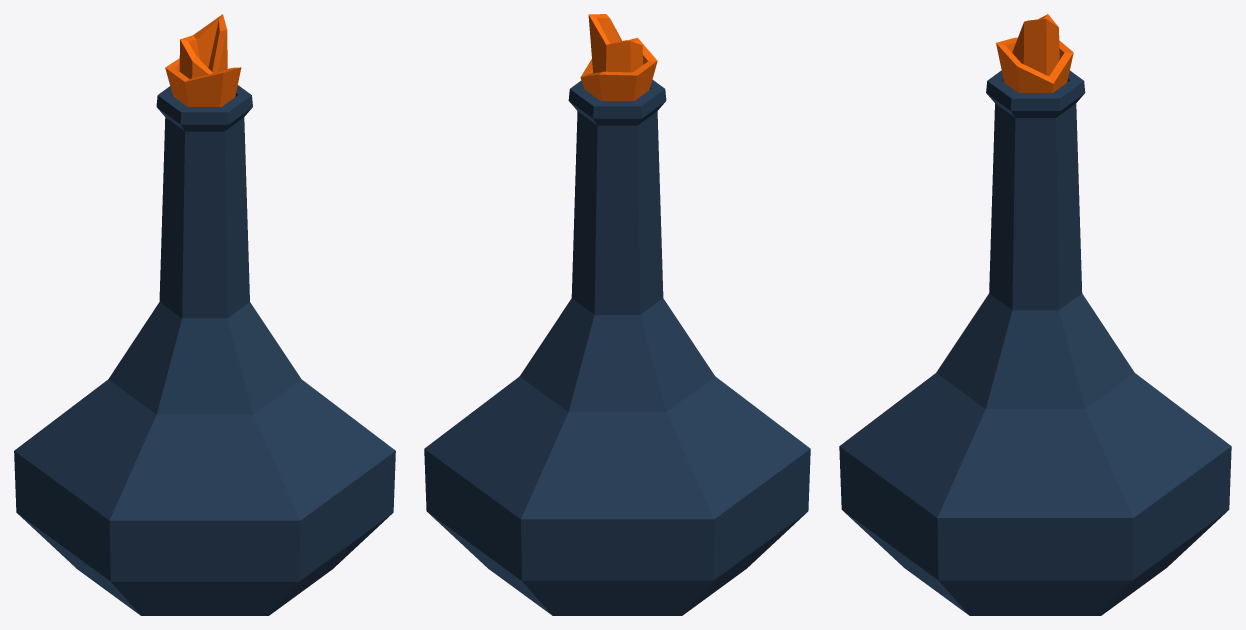
File: bottle-alchemy-alcohol-full.fbx
3 views of the same model, side by side, from view 1: azimuth 30°, elevation 25°; view 2: azimuth 150°, elevation 25°; view 3: azimuth 270°, elevation 25° (orthographic). The views are drawn at different scales.
Parts seen in each view (by area): view 1: bottle-alchemy-alcohol-full; view 2: bottle-alchemy-alcohol-full; view 3: bottle-alchemy-alcohol-full.
Part boxes in pixels (<box>): bottle-alchemy-alcohol-full: <box>14,14,395,615</box>; bottle-alchemy-alcohol-full: <box>424,14,810,615</box>; bottle-alchemy-alcohol-full: <box>839,14,1231,615</box>.
Size of the model in its own units: 140 by 255 by 162.
